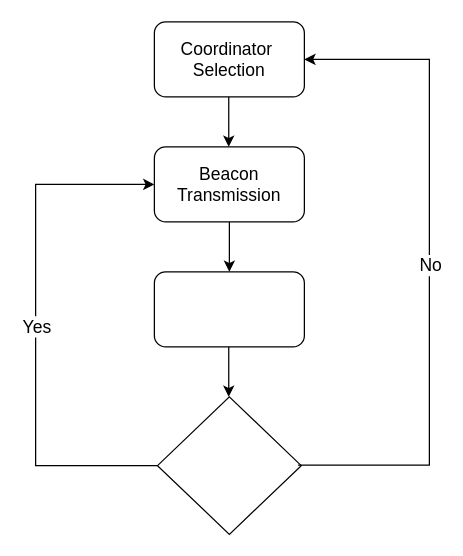
The diagram is 463 pixels wide and 556 high, and some of its shapes have lost their labels. Each missing label, with the centre of its shape:
"Data Exchange between bots" belongs at (228,309).
"Is the coordinator still there?" belongs at (228,465).
